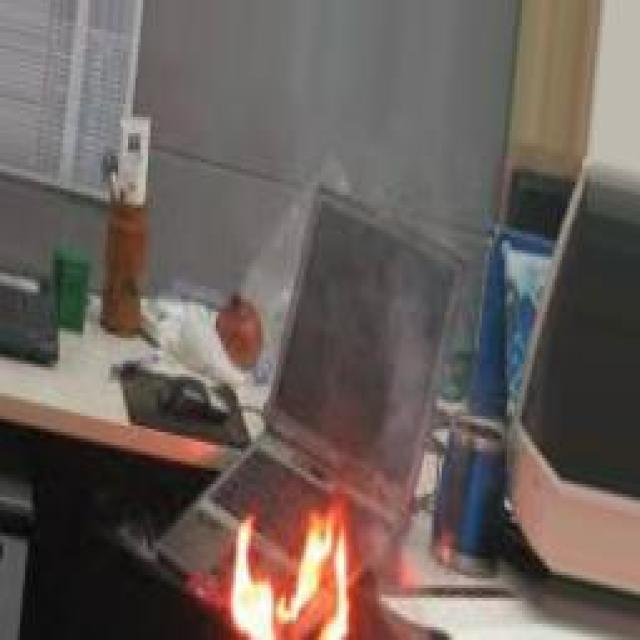fire: (217, 512, 357, 640)
